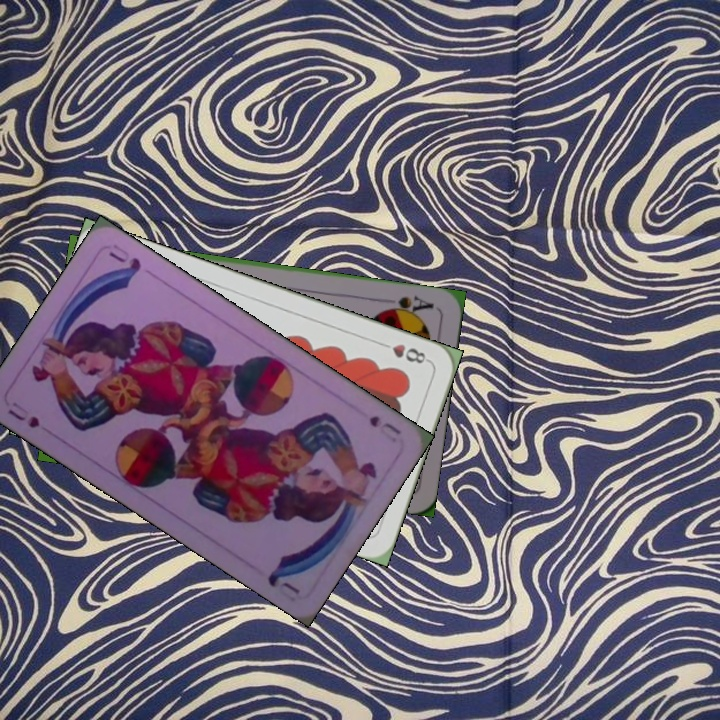H8: (375, 338, 432, 366)
SA: (377, 292, 437, 319)
SU: (365, 411, 404, 445), (4, 397, 43, 431)
